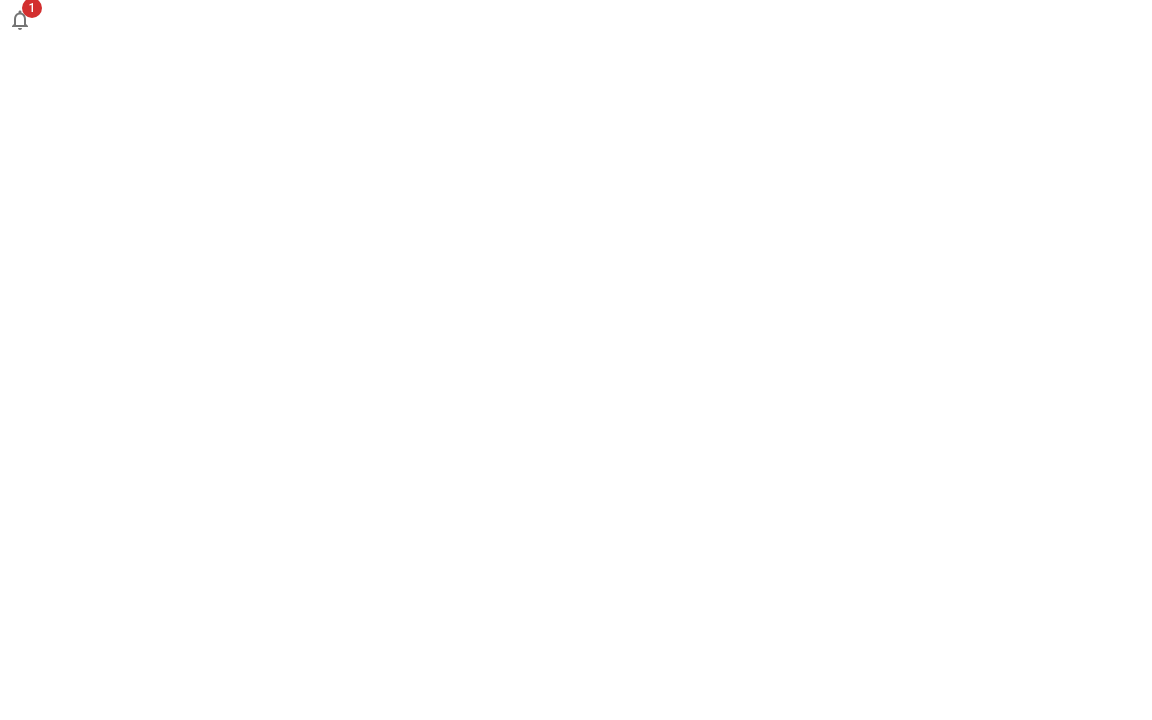
Test: NotificationBell › shows the unread count and lists notifications
The image size is (1152, 720).
Click the button named "Notifications, 1 unread".
click(20, 20)  # box x1=0 y1=0 x2=40 y2=40
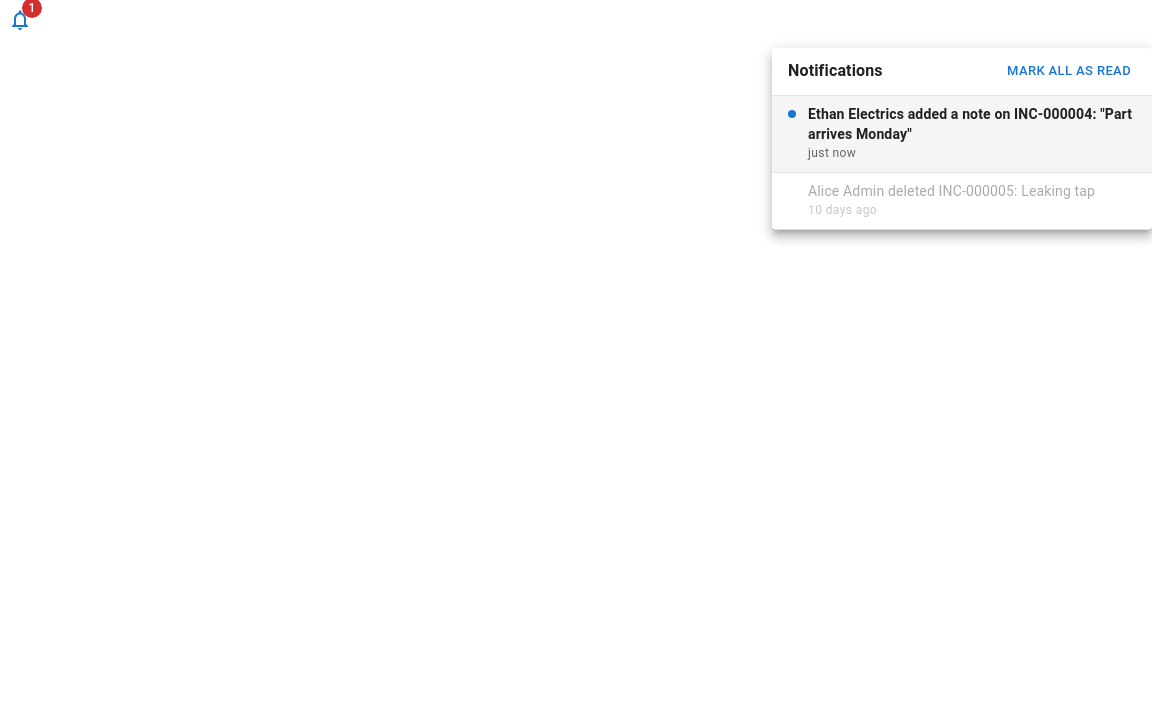
Check: the dialog "Notifications" shows "Part arrives Monday", box x1=772 y1=96 x2=1151 y2=172
Check: the element named "Unread" is shown, box x1=788 y1=110 x2=796 y2=118
Check: the button "deleted INC-000005" is disabled, box x1=772 y1=173 x2=1151 y2=229
